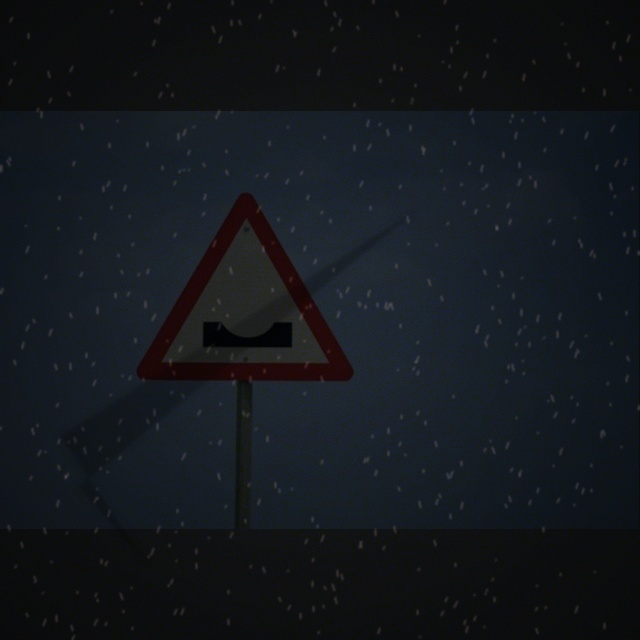Dangerous_Dip: (137, 188, 355, 383)
